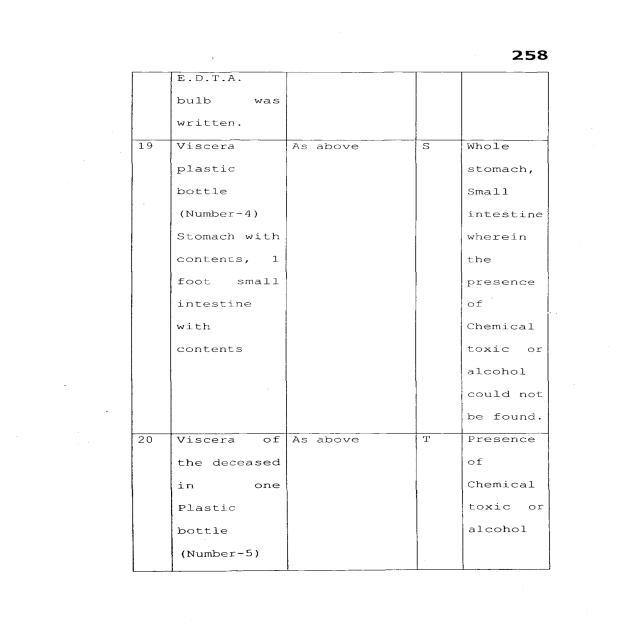page-number: (426, 1, 632, 66)
